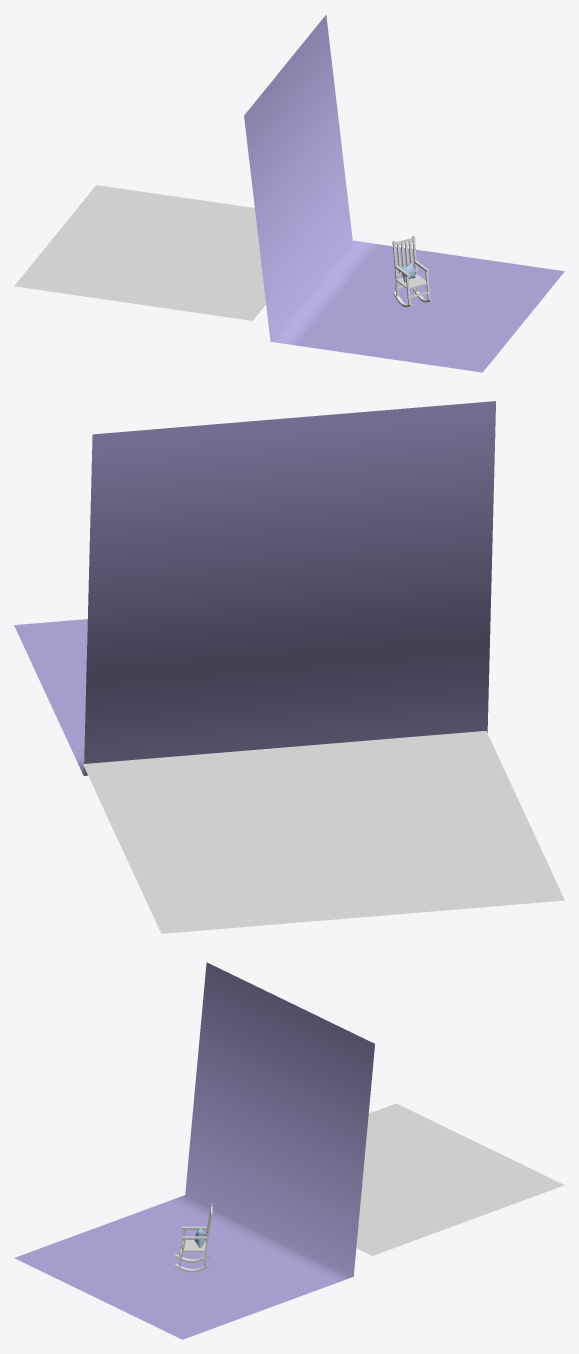
The model's file is rocking_chair.glb.
3 views of the same model, one above another, from view 1: azimuth 30°, elevation 25°; view 2: azimuth 150°, elevation 25°; view 3: azimuth 270°, elevation 25° (orthographic). The views are drawn at different scales.
Parts seen in each view (by area): view 1: Plane.002, Plane.001, Cube; view 2: Plane.002, Plane.001; view 3: Plane.002, Plane.001, Cube.
Part boxes in pixels (x1,y1,x2,y2): Plane.002: (244, 15, 564, 372); Plane.001: (14, 185, 265, 320); Cube: (392, 236, 432, 307); Plane.002: (14, 401, 495, 775); Plane.001: (83, 731, 564, 933); Plane.002: (14, 962, 374, 1339); Plane.001: (356, 1103, 564, 1255); Cube: (175, 1203, 212, 1272).
Bounding box in the file's own units: 73.86 × 35.23 × 78.19.
